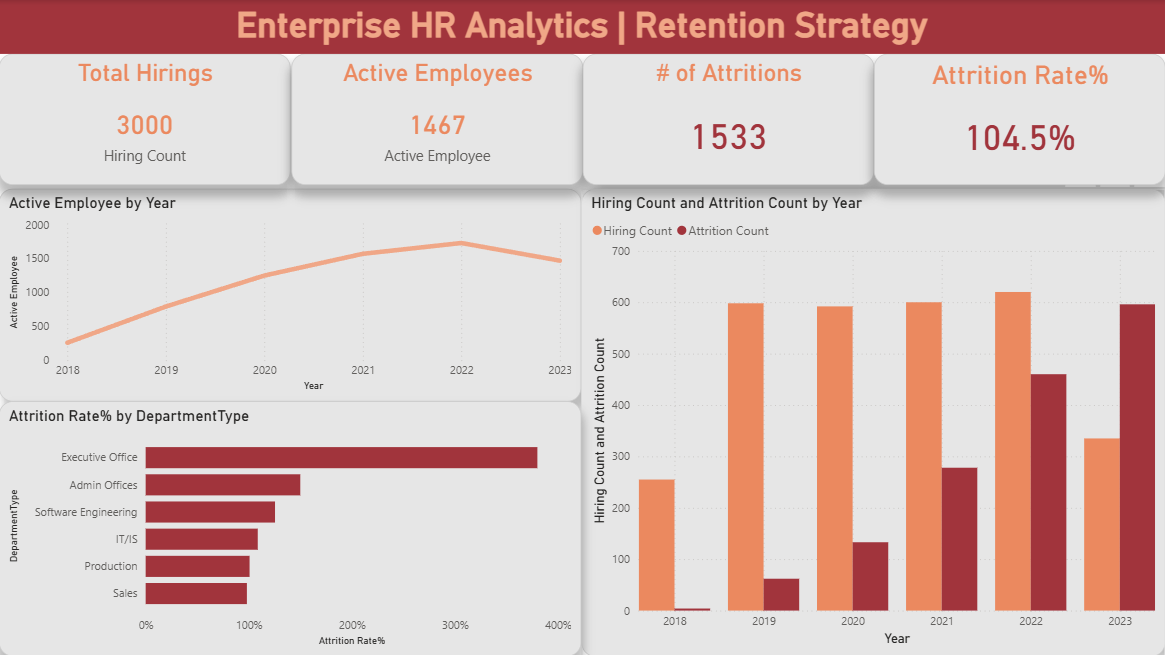

What the dashboard file says about the page in this screenshot:
{"tool":"powerbi","page":{"name":"Page 1","canvas":[1280,720],"ordinal":0},"visuals":[{"type":"lineChart","fields":{"Category":["Date Table.Year"],"Y":["_Key_Mearsures.Active Employee"]},"box":[0,207.2,639.5,233.3],"z":0},{"type":"clusteredColumnChart","fields":{"Category":["Date Table.Year"],"Y":["_Key_Mearsures.Hiring Count","_Key_Mearsures.Attrition Count"]},"box":[639.5,207.2,640.8,513.2],"z":1000},{"type":"clusteredBarChart","fields":{"Category":["employee_data.DepartmentType"],"Y":["_Key_Mearsures.Attrition Rate%"]},"box":[0,440.5,639.5,279.9],"z":2000},{"type":"card","title":"Total Hirings","fields":{"Values":["_Key_Mearsures.Hiring Count"]},"box":[0,59,319.7,144.1],"z":3000},{"type":"card","title":"Active Employees","fields":{"Values":["_Key_Mearsures.Active Employee"]},"box":[321.1,59,319.7,144.1],"z":4000},{"type":"card","title":"# of Attritions","fields":{"Values":["_Key_Mearsures.Attrition Count"]},"box":[640.8,59,319.7,144.1],"z":5000},{"type":"card","title":"Attrition Rate%","fields":{"Values":["_Key_Mearsures.Attrition Rate%"]},"box":[960.6,59,319.7,144.1],"z":6000},{"type":"textbox","box":[0,0,1280.3,59],"z":7000}]}

Visuals, with their boxes in screenshot pixels (x1, y1, x2, y2), scaled from the page's 1280x720 canvas onto the 1165x655 screenshot:
lineChart - Date Table.Year x _Key_Mearsures.Active Employee: crop(0, 188, 582, 401)
clusteredColumnChart - Date Table.Year x _Key_Mearsures.Hiring Count: crop(582, 188, 1164, 654)
clusteredBarChart - employee_data.DepartmentType x _Key_Mearsures.Attrition Rate%: crop(0, 401, 582, 654)
"Total Hirings" card: crop(0, 54, 291, 185)
"Active Employees" card: crop(292, 54, 583, 185)
"# of Attritions" card: crop(583, 54, 874, 185)
"Attrition Rate%" card: crop(874, 54, 1164, 185)
textbox: crop(0, 0, 1164, 54)
